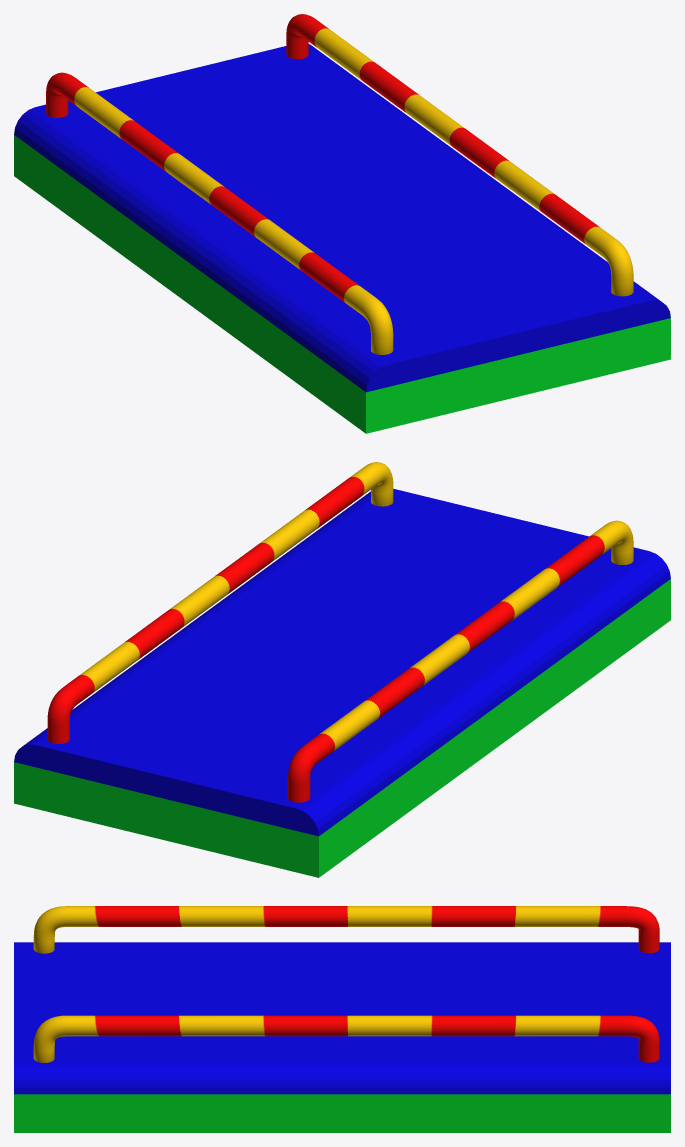
The picture shows the model from 3 angles, top to bottom: view 1: azimuth 30°, elevation 25°; view 2: azimuth 150°, elevation 25°; view 3: azimuth 270°, elevation 25°; orthographic projection. The views are drawn at different scales.
Visible parts, largest first — view 1: plank6, pipe13, pipe14; view 2: plank6, pipe14, pipe13; view 3: plank6, pipe13, pipe14.
Part boxes in pixels (x1=…): plank6: x1=14, y1=44, x2=670, y2=433; pipe13: x1=286, y1=14, x2=633, y2=296; pipe14: x1=46, y1=72, x2=393, y2=354; plank6: x1=14, y1=488, x2=670, y2=877; pipe14: x1=287, y1=520, x2=633, y2=802; pipe13: x1=47, y1=462, x2=393, y2=743; plank6: x1=14, y1=942, x2=670, y2=1132; pipe13: x1=33, y1=1015, x2=659, y2=1062; pipe14: x1=33, y1=906, x2=659, y2=953.
Bounding box in the file's own units: 500 × 170 × 1000.
